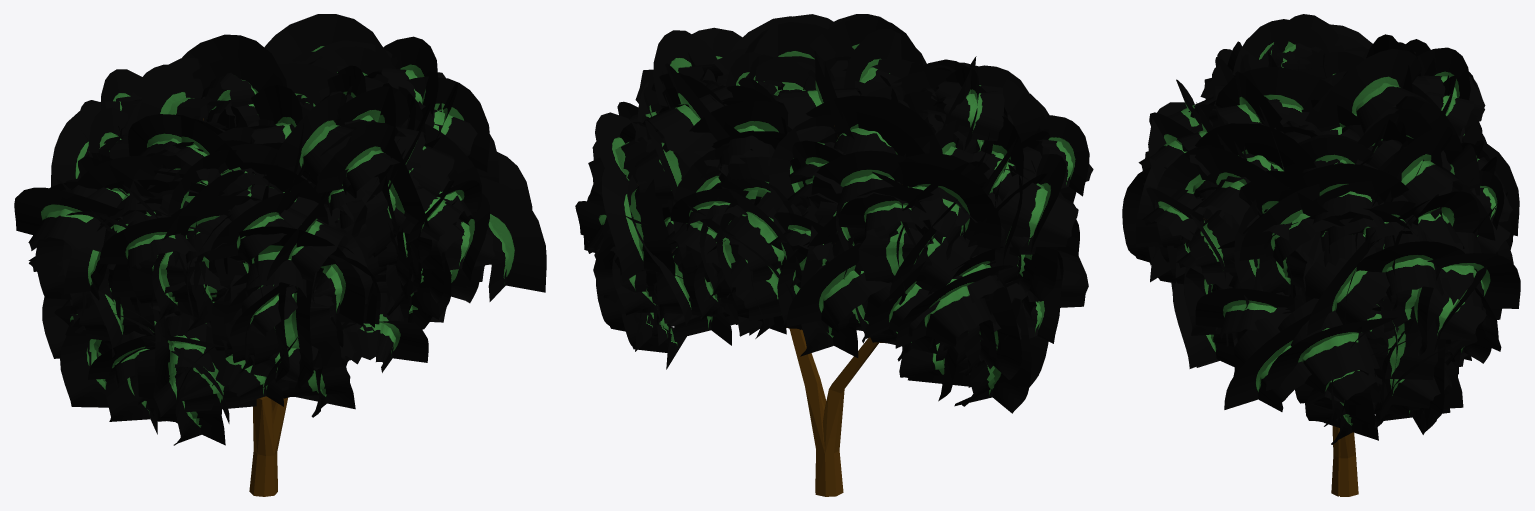
The model's file is mango tree medium new.glb.
3 renders of one model, left to right at view 1: azimuth 30°, elevation 25°; view 2: azimuth 150°, elevation 25°; view 3: azimuth 270°, elevation 25°, orthographic. The views are drawn at different scales.
Parts seen in each view (by area): view 1: MeshRenderer2, MeshRenderer3; view 2: MeshRenderer2, MeshRenderer3; view 3: MeshRenderer2, MeshRenderer3.
Part boxes in pixels (x1=…): MeshRenderer2: x1=14, y1=14, x2=546, y2=445; MeshRenderer3: x1=249, y1=396, x2=287, y2=496; MeshRenderer2: x1=575, y1=14, x2=1093, y2=413; MeshRenderer3: x1=789, y1=328, x2=878, y2=496; MeshRenderer2: x1=1122, y1=14, x2=1520, y2=444; MeshRenderer3: x1=1331, y1=426, x2=1358, y2=496.
Bounding box in the file's own units: 5.5 × 4.9 × 4.05.
2 materials, 1 textured.
